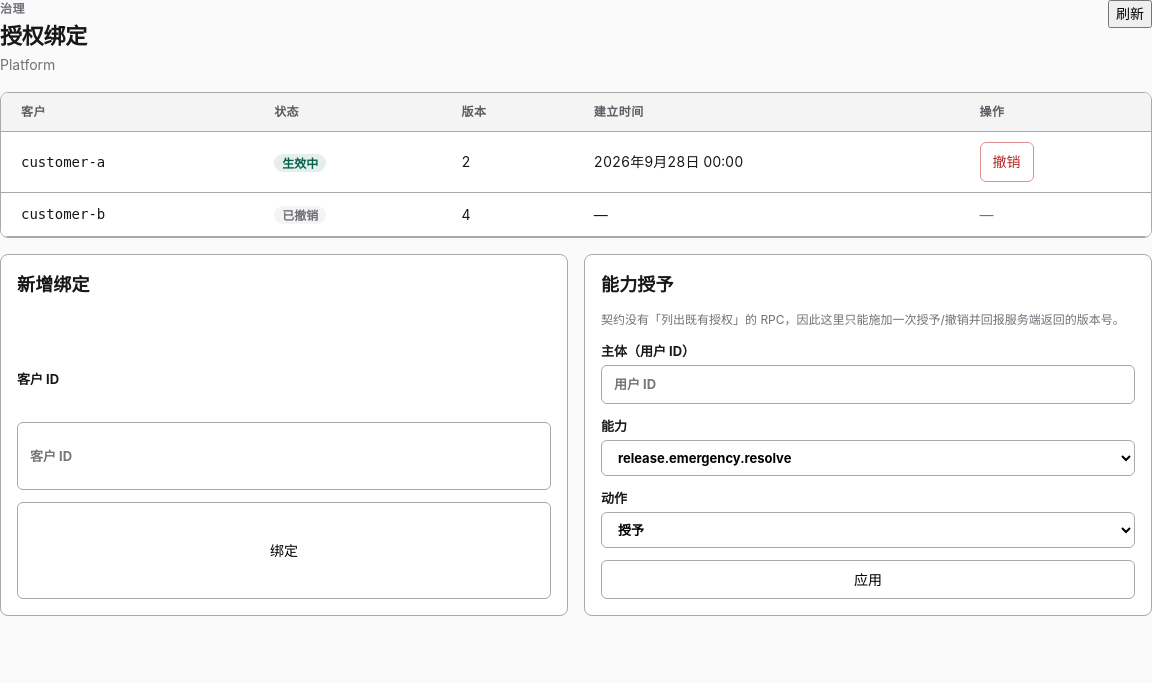
Test: BindingsPage characterization › does not inherit the previous revoke reason when the confirmation is re-armed
The image size is (1152, 683).
Step 1. Click the button "撤销" → coordinates (1006, 162), box [980,142,1034,182]
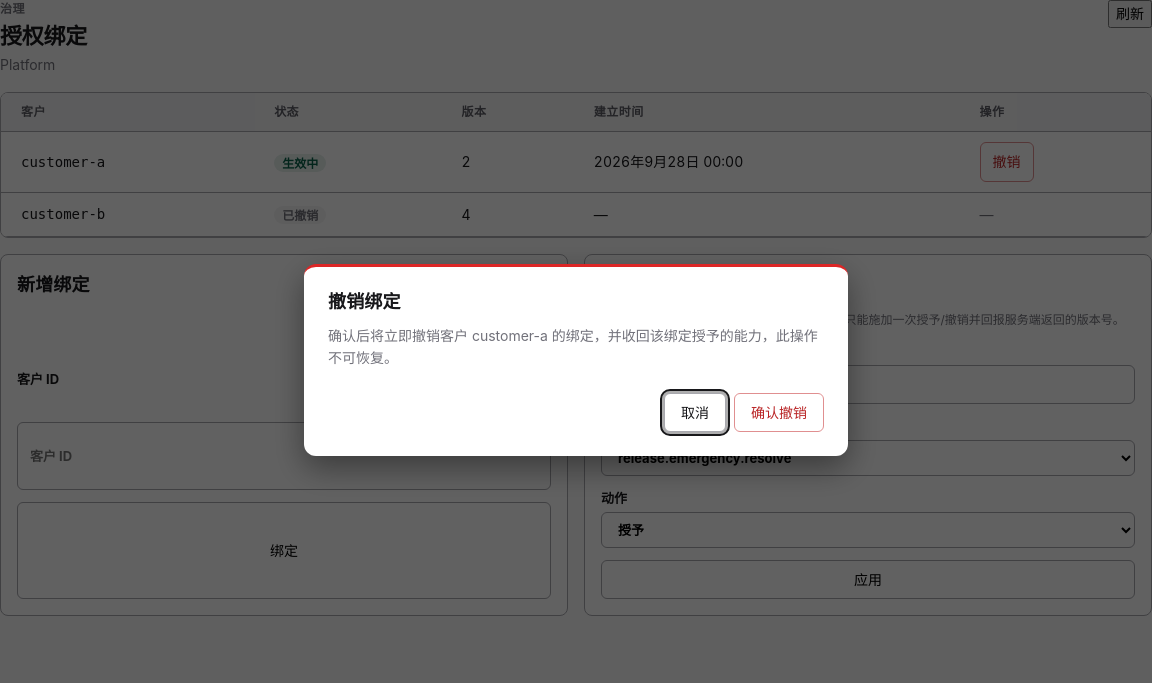
Step 2. Click the button "确认撤销" → coordinates (779, 412), box [734,393,824,432]
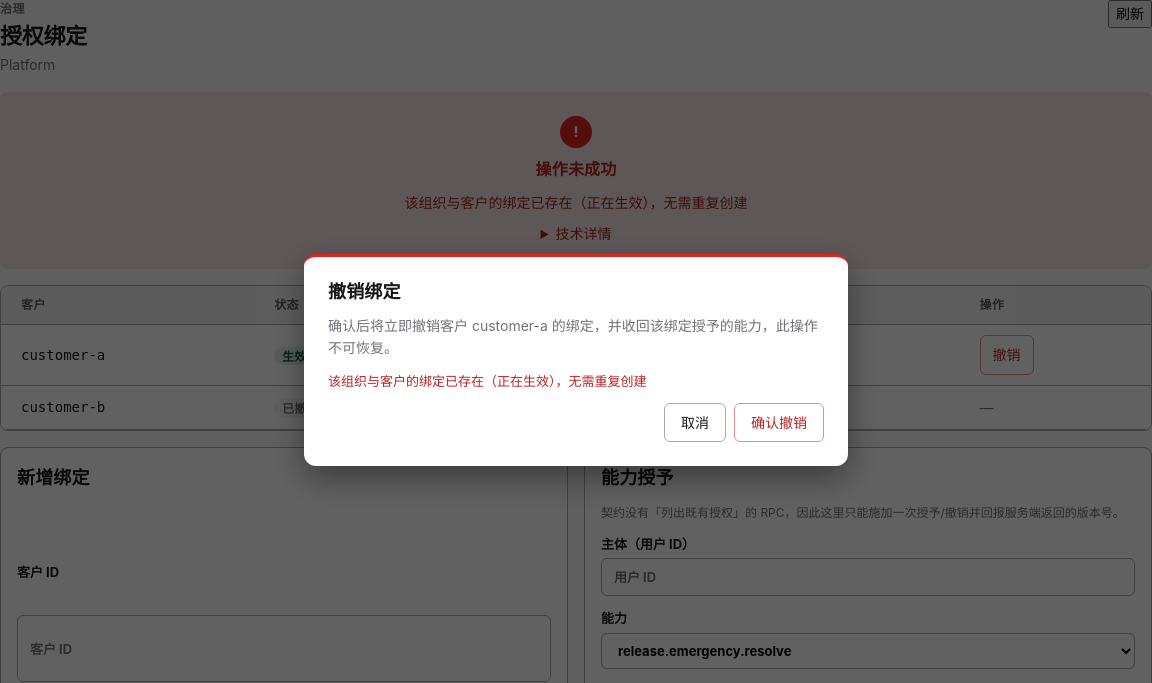
Expected: the message "该组织与客户的绑定已存在（正在生效），无需重复创建" is shown, [328,372,646,388]
Step 3. Click the button "取消" → coordinates (695, 423), box [664,403,726,442]
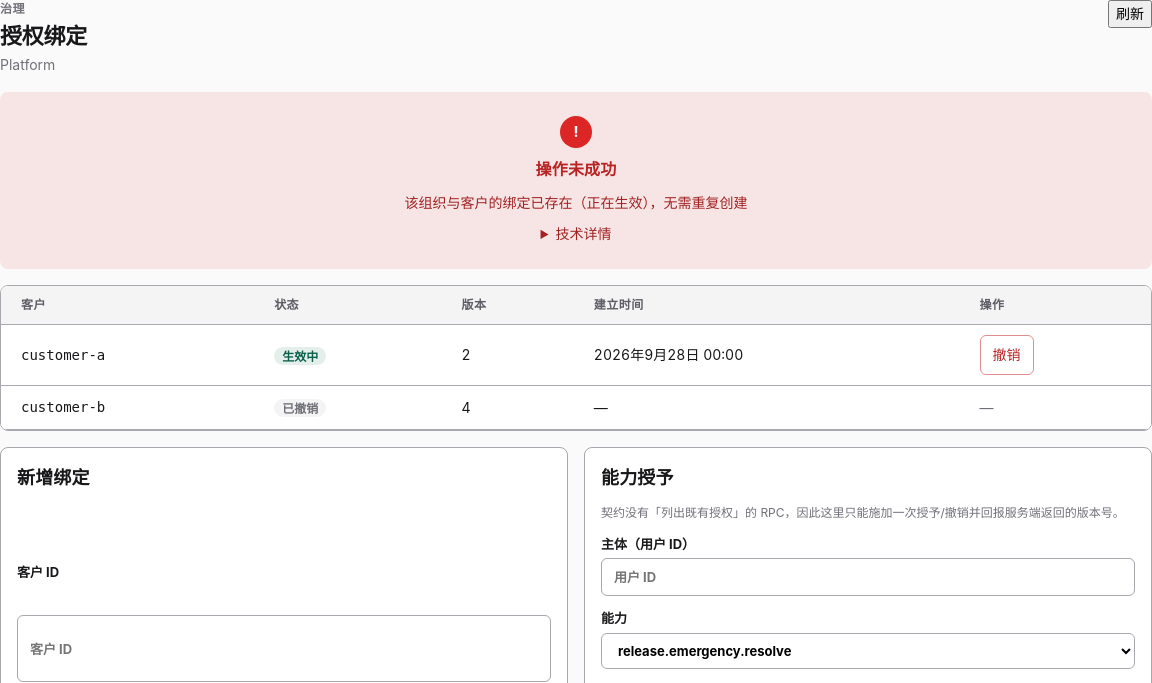
Step 4. Click the button "撤销" → coordinates (1006, 355), box [980,335,1034,375]
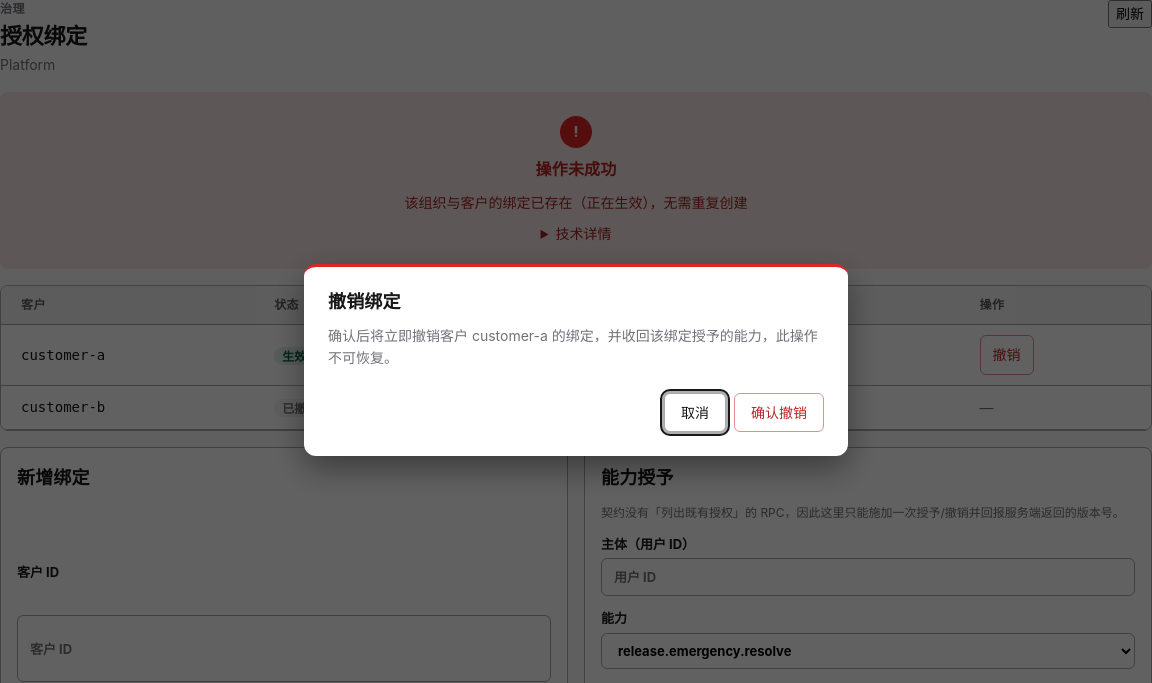
Expected: the dialog is shown, [304,264,848,456]
